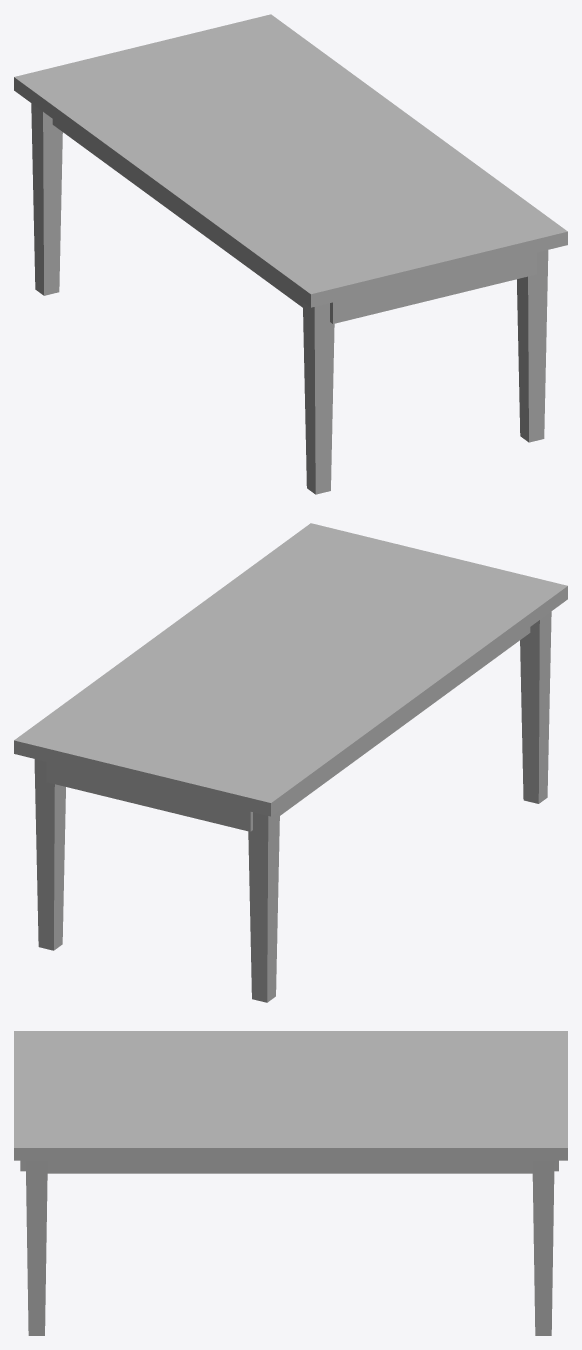
Rendered from desk.fbx.
3 views of the same model, one above another, from view 1: azimuth 30°, elevation 25°; view 2: azimuth 150°, elevation 25°; view 3: azimuth 270°, elevation 25° (orthographic). The views are drawn at different scales.
Visible parts, largest first — view 1: desk, desk_leg, desk_drawer, desk_wood; view 2: desk, desk_leg, desk_drawer, desk_wood; view 3: desk, desk_leg, desk_wood.
Part boxes in pixels (x1,y1,x2,y2): desk: [14, 14, 567, 307]; desk_leg: [31, 103, 548, 494]; desk_drawer: [330, 252, 536, 323]; desk_wood: [52, 119, 302, 307]; desk: [14, 523, 567, 816]; desk_leg: [34, 611, 551, 1002]; desk_drawer: [46, 762, 252, 831]; desk_wood: [280, 627, 530, 815]; desk: [14, 1031, 567, 1160]; desk_leg: [25, 1160, 554, 1335]; desk_wood: [47, 1160, 532, 1173].
Bounding box in the file's own units: 100 × 77.74 × 200.
